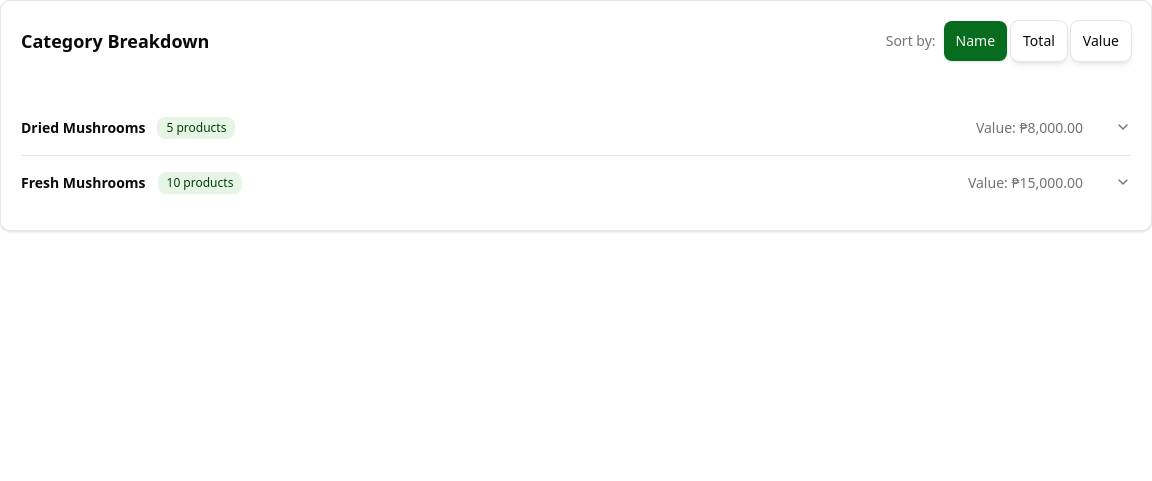
Test: CategoryInventoryBreakdown › Accordion Interaction › should expand category to show product list when clicked
Expected: the text "Oyster Mushroom" is not shown
# Click on the Fresh Mushrooms accordion trigger
Click the heading "Fresh Mushrooms" at [83, 183], box [21,173,146,193]
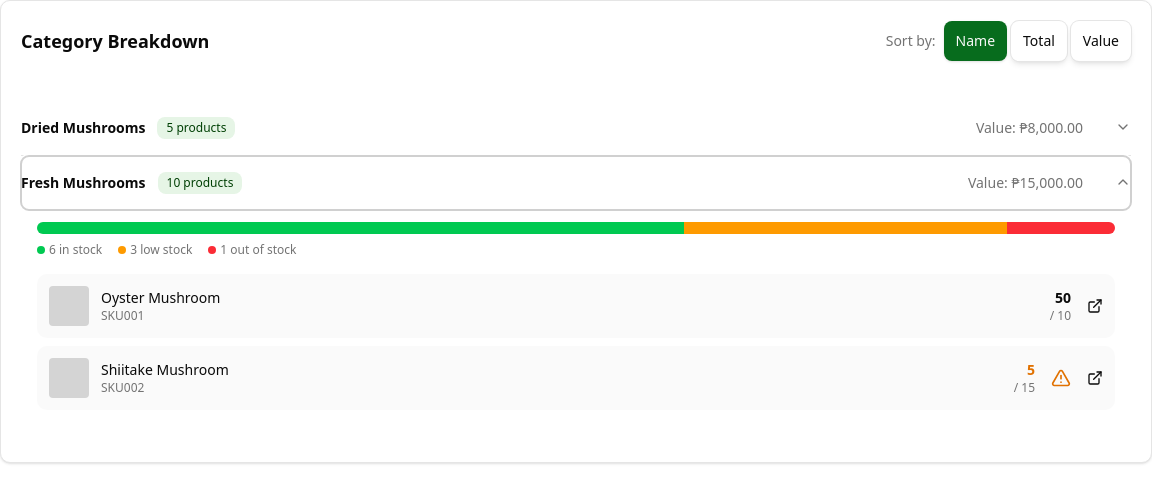
Expected: the text "Oyster Mushroom" is shown, [101,288,220,308]
Expected: the text "Shiitake Mushroom" is shown, [101,360,229,380]
